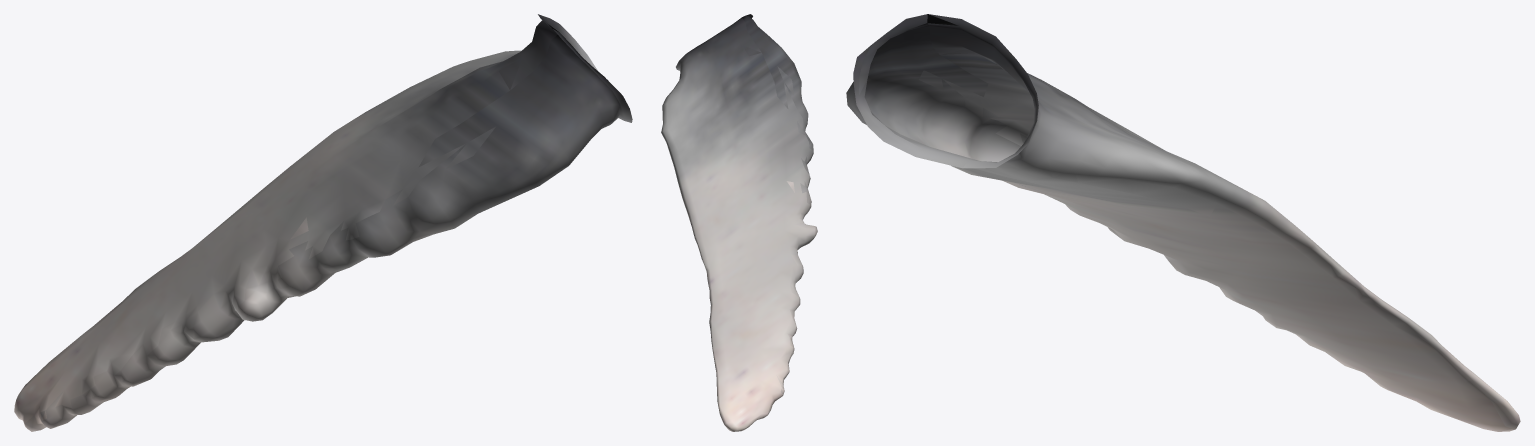
Rendered from aletas_der.obj.
3 views of the same model, side by side, from view 1: azimuth 30°, elevation 25°; view 2: azimuth 150°, elevation 25°; view 3: azimuth 270°, elevation 25° (orthographic). The views are drawn at different scales.
Parts seen in each view (by area): view 1: aleta_der_humpback_whale_001; view 2: aleta_der_humpback_whale_001; view 3: aleta_der_humpback_whale_001.
Boxes of the visible parts, x1,y1,x2,y2 form: aleta_der_humpback_whale_001: (14,14,632,431); aleta_der_humpback_whale_001: (661,14,817,431); aleta_der_humpback_whale_001: (846,14,1520,431).
Size of the model in its own units: 82.43 by 108 by 121.
